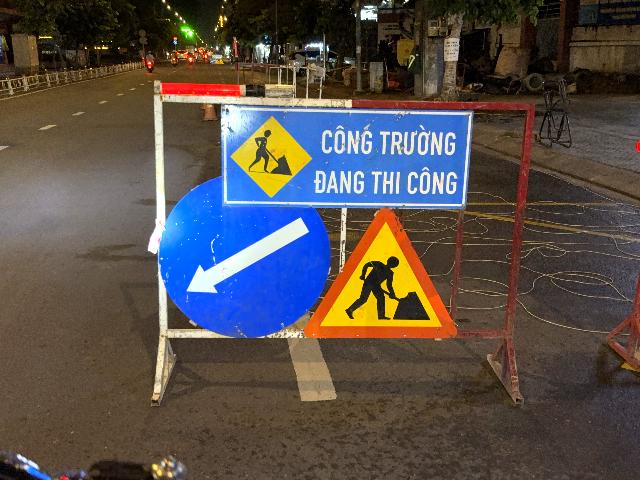cong-truong-dang-thi-cong: (304, 206, 458, 339)
huong-phai-di-vong-chuong-ngai-vat: (156, 173, 331, 340)
